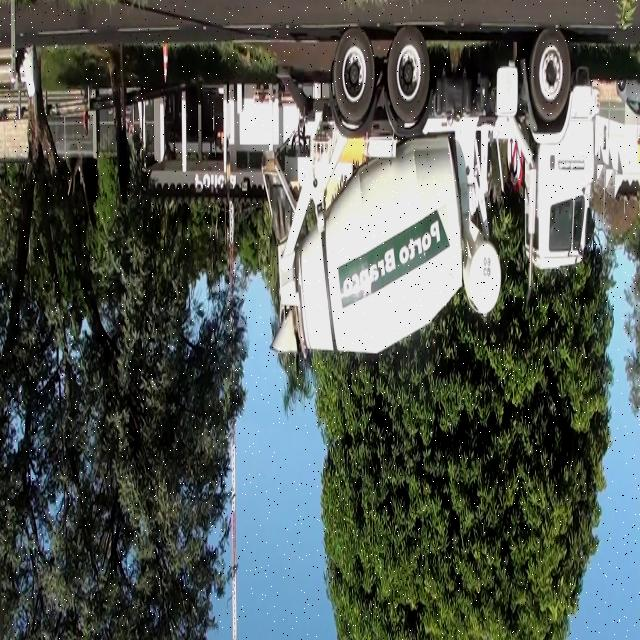-axle: (388, 28, 430, 124), (530, 25, 572, 120), (334, 26, 374, 124)
